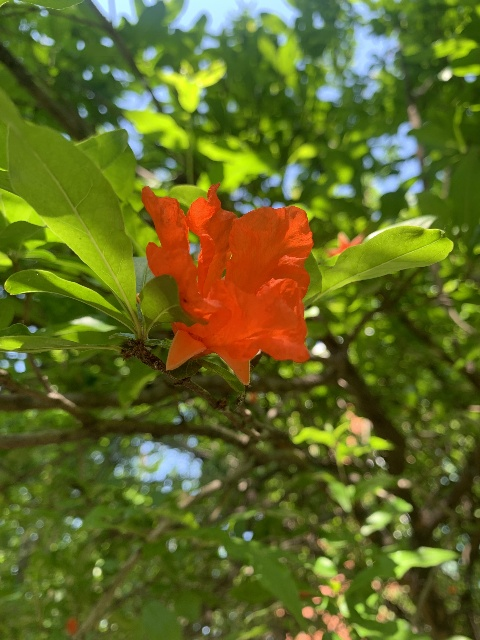flower: (140, 180, 313, 386)
